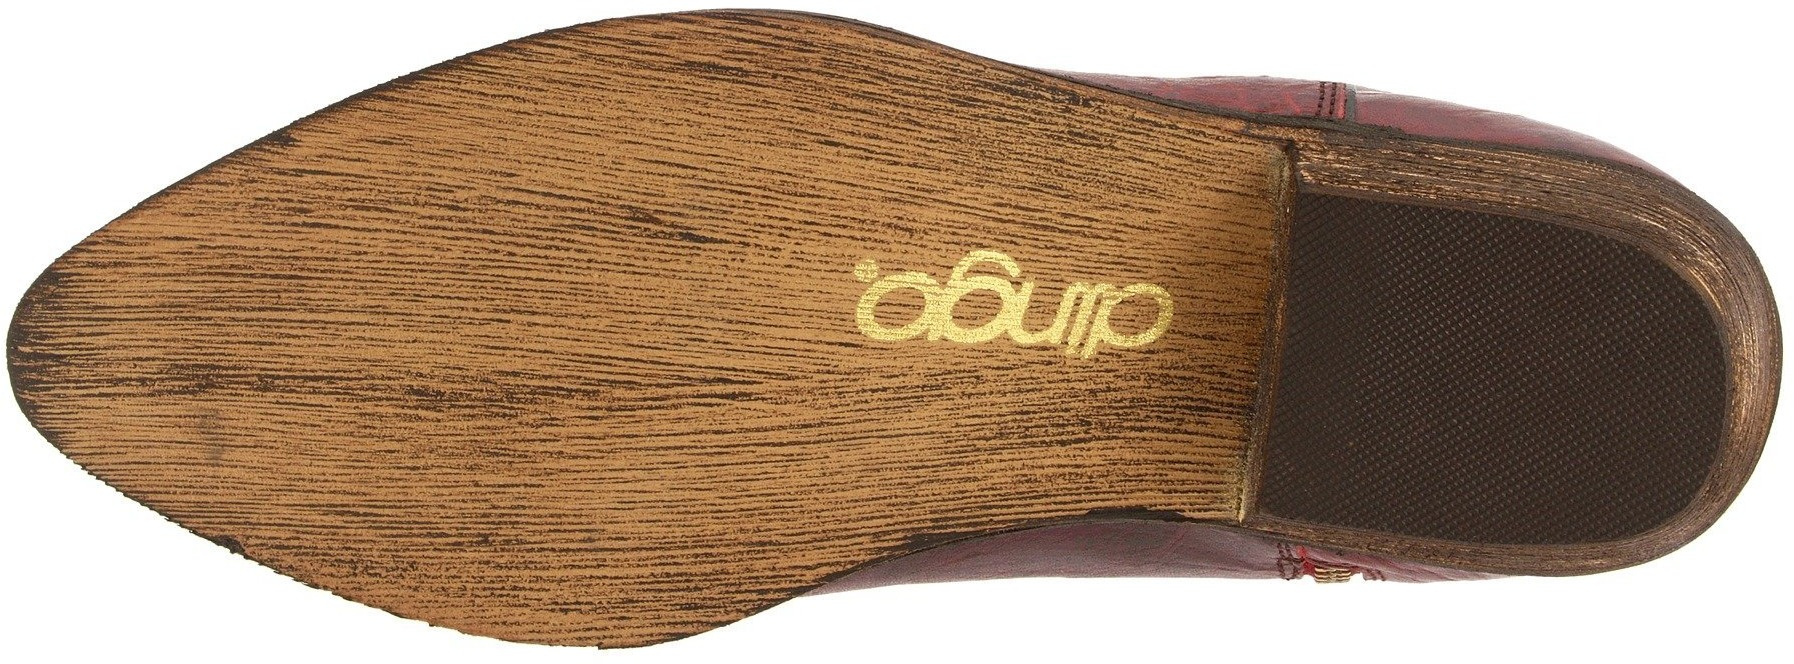exclude: (805, 19, 1305, 633)
line: (273, 210, 654, 563)
other: (330, 97, 865, 575), (130, 197, 459, 491), (1307, 226, 1620, 527), (1383, 256, 1637, 471)
